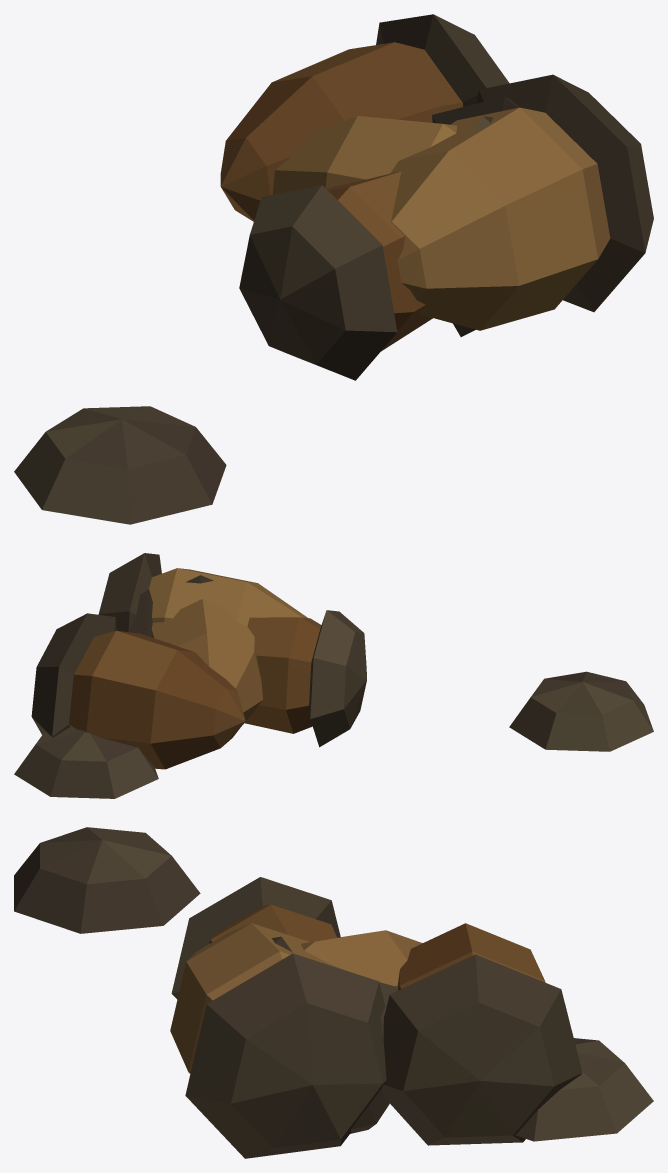
The model's file is fruit_ground_acorns_c.glb.
3 renders of one model, top to bottom at view 1: azimuth 30°, elevation 25°; view 2: azimuth 150°, elevation 25°; view 3: azimuth 270°, elevation 25°, orthographic. The views are drawn at different scales.
Visible parts, largest first — view 1: fruit_ground_acorns_c; view 2: fruit_ground_acorns_c; view 3: fruit_ground_acorns_c.
Boxes of the visible parts, box(x1,y1,x2,y2) form: fruit_ground_acorns_c: box(14, 14, 653, 524); fruit_ground_acorns_c: box(14, 553, 653, 798); fruit_ground_acorns_c: box(14, 827, 653, 1158).
Bounding box in the file's own units: 0.9523 × 0.2902 × 0.845.
